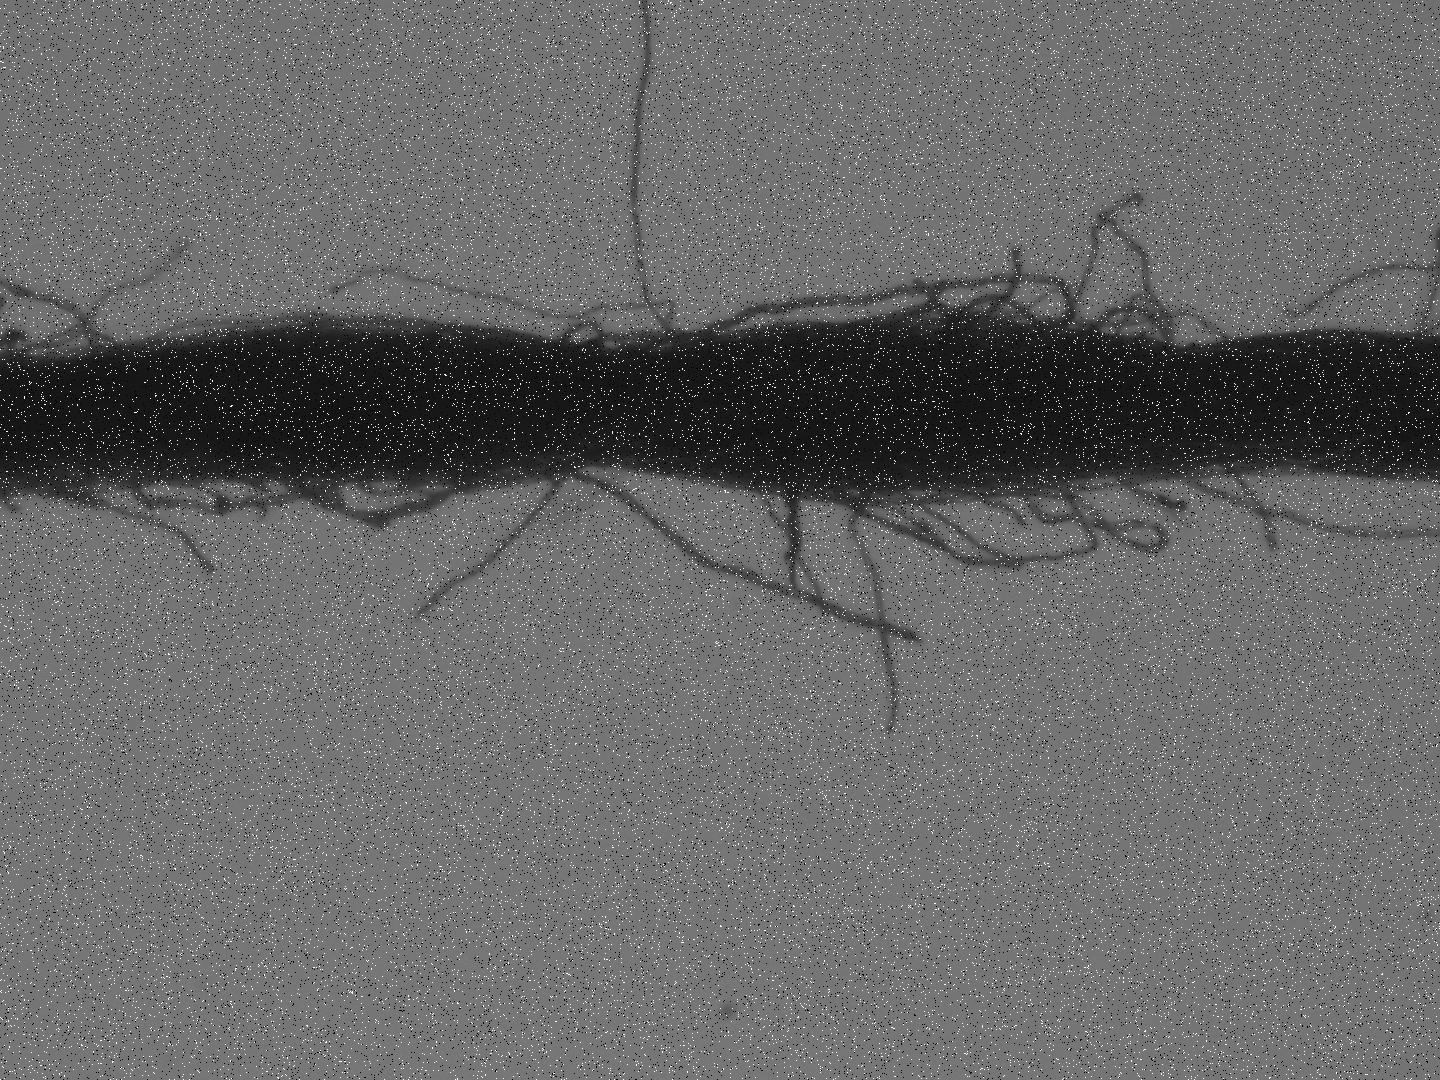loop_fiber: (692, 270, 1071, 340), (896, 474, 1100, 566), (58, 492, 220, 576), (1010, 478, 1168, 552), (277, 471, 465, 528), (128, 469, 342, 512), (1071, 307, 1231, 347), (143, 311, 329, 345), (1008, 466, 1188, 496), (426, 462, 575, 488), (579, 327, 719, 354), (937, 290, 1037, 328), (1089, 298, 1164, 344), (840, 482, 979, 505), (297, 312, 432, 335), (24, 327, 116, 358), (857, 303, 955, 328), (422, 321, 531, 343), (344, 478, 417, 498), (556, 315, 600, 347)
protruding_fiber: (553, 474, 920, 650), (414, 465, 573, 621), (327, 267, 675, 328), (9, 235, 188, 347), (848, 487, 900, 741), (626, 2, 659, 322), (1282, 258, 1433, 318), (968, 246, 1024, 320), (1226, 462, 1274, 546), (1117, 481, 1186, 517), (976, 498, 1026, 531), (781, 492, 802, 572)
